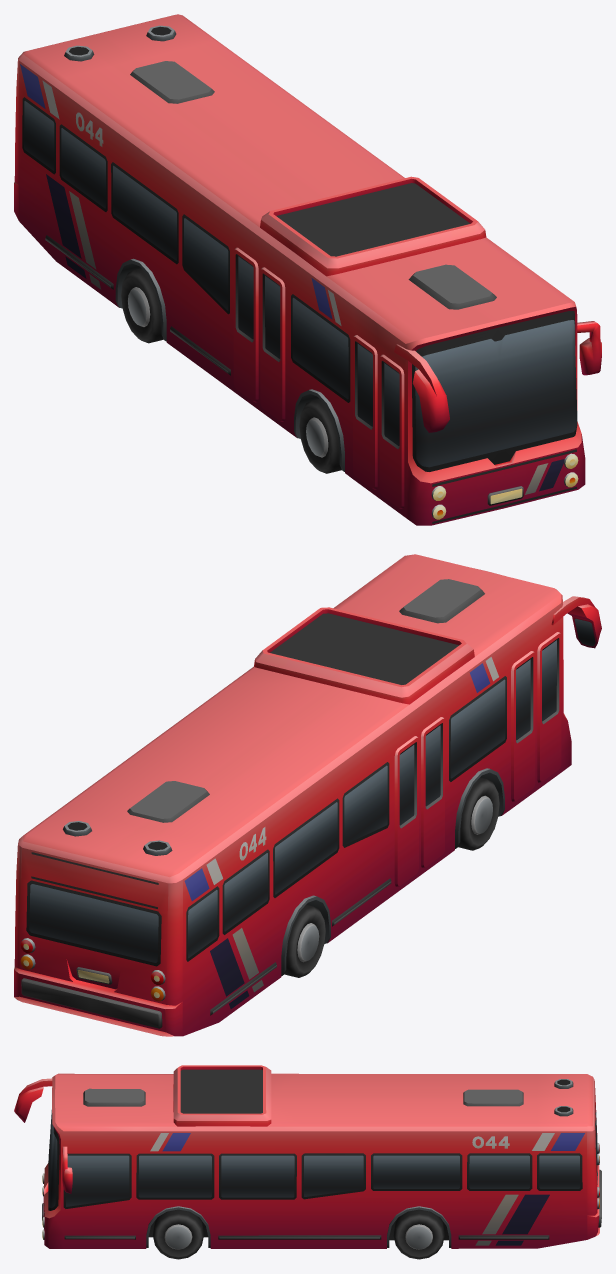
File: Car_17A.fbx
The picture shows the model from 3 angles, top to bottom: view 1: azimuth 30°, elevation 25°; view 2: azimuth 150°, elevation 25°; view 3: azimuth 270°, elevation 25°; orthographic projection. The views are drawn at different scales.
Visible parts, largest first — view 1: Car_17A, Wheel_17A_R.R, Wheel_17A_F.R; view 2: Car_17A, Wheel_17A_R.R, Wheel_17A_F.R; view 3: Car_17A, Wheel_17A_R.L, Wheel_17A_F.L, Livery_17A.
Part boxes in pixels (left/top/right/bottom): Car_17A: left=14, top=14, right=601, bottom=525; Wheel_17A_R.R: left=121, top=268, right=163, bottom=343; Wheel_17A_F.R: left=299, top=398, right=341, bottom=473; Car_17A: left=14, top=554, right=601, bottom=1036; Wheel_17A_R.R: left=284, top=904, right=325, bottom=977; Wheel_17A_F.R: left=458, top=777, right=499, bottom=850; Car_17A: left=14, top=1065, right=601, bottom=1248; Wheel_17A_R.L: left=393, top=1209, right=444, bottom=1259; Wheel_17A_F.L: left=153, top=1209, right=203, bottom=1259; Livery_17A: left=472, top=1136, right=509, bottom=1148.
Bounding box in the file's own units: 339 × 324 × 1223.
